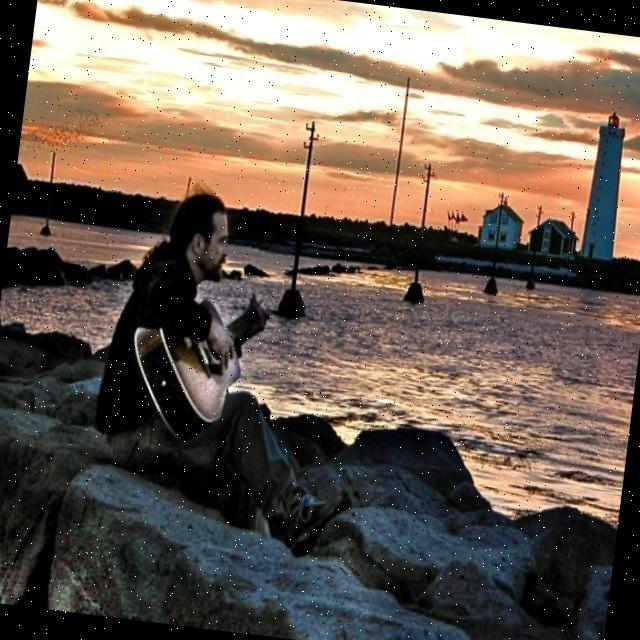acousticguitar: (134, 297, 267, 441)
